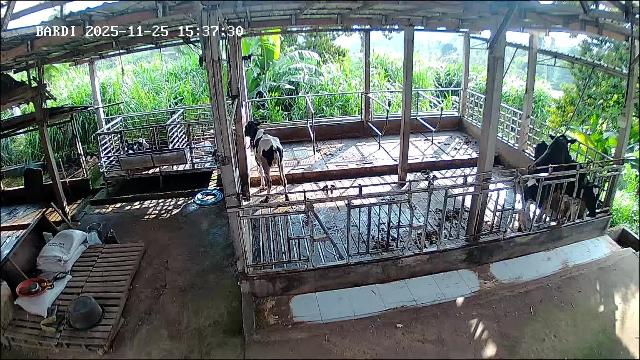mounting: (520, 133, 577, 226)
